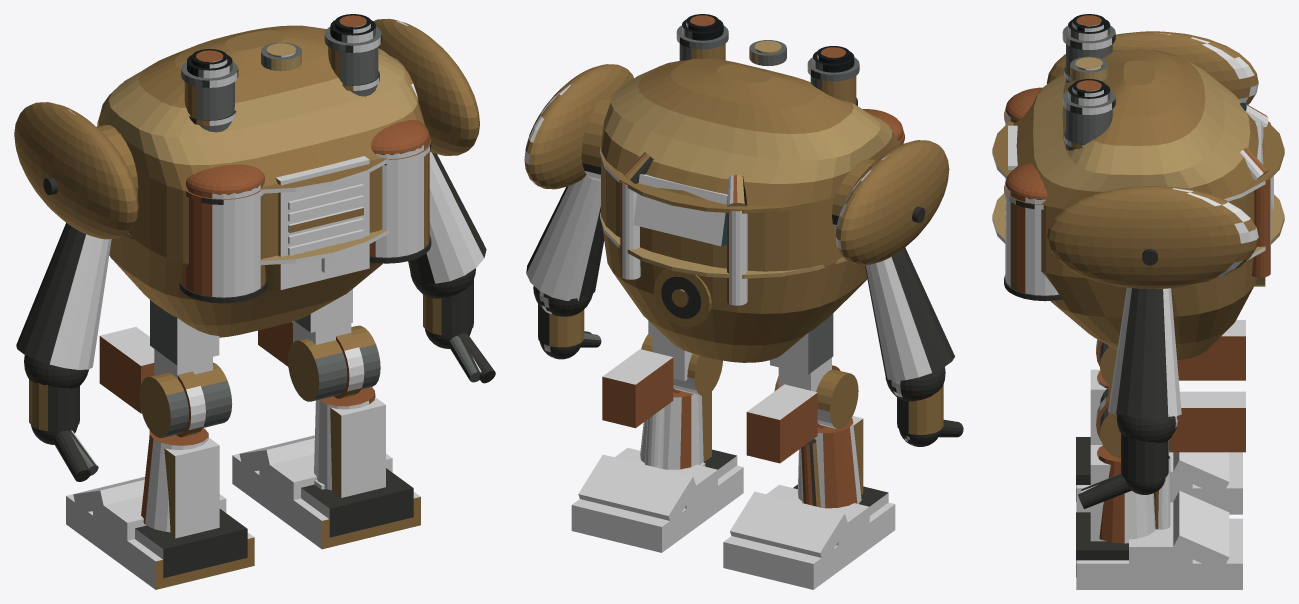
3 renders of one model, left to right at view 1: azimuth 30°, elevation 25°; view 2: azimuth 150°, elevation 25°; view 3: azimuth 270°, elevation 25°, orthographic. The views are drawn at different scales.
Bounding box in the file's own units: 3.71 × 3.97 × 2.21.
